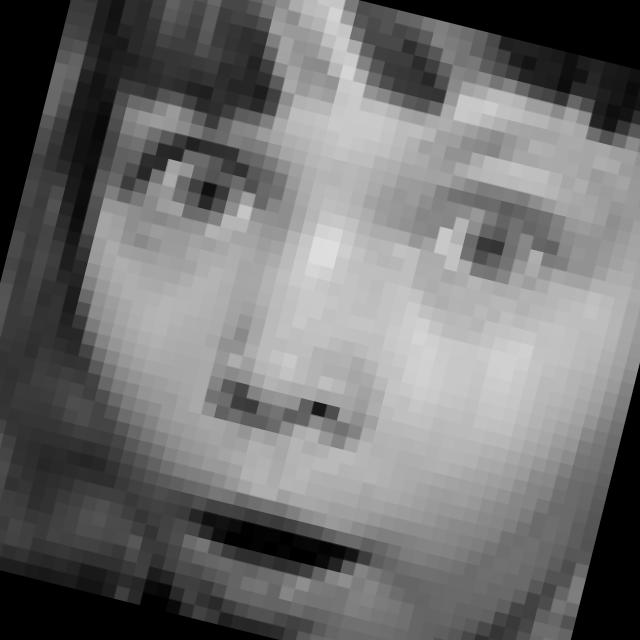surprise: (20, 41, 611, 640)
